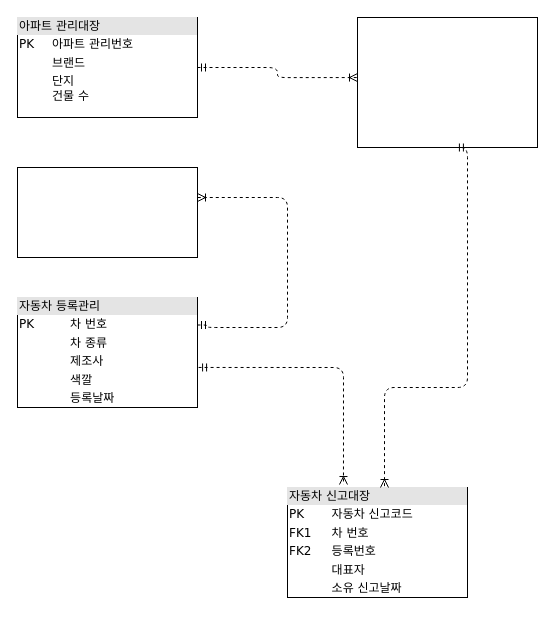
Some shapes in this 555 by 623 pixel diagram are drawn without their labels. Each missing label, with the box of its shape:
세대주 등록번호 PK 등록번호 FK1 아파트 관리번호 연락처 아파트 번호 호수 등록 날짜: (356, 16, 538, 148)
아파트 출입기록 PK 출입 기록날짜 FK1 차 번호 출입타입: (16, 166, 198, 258)
